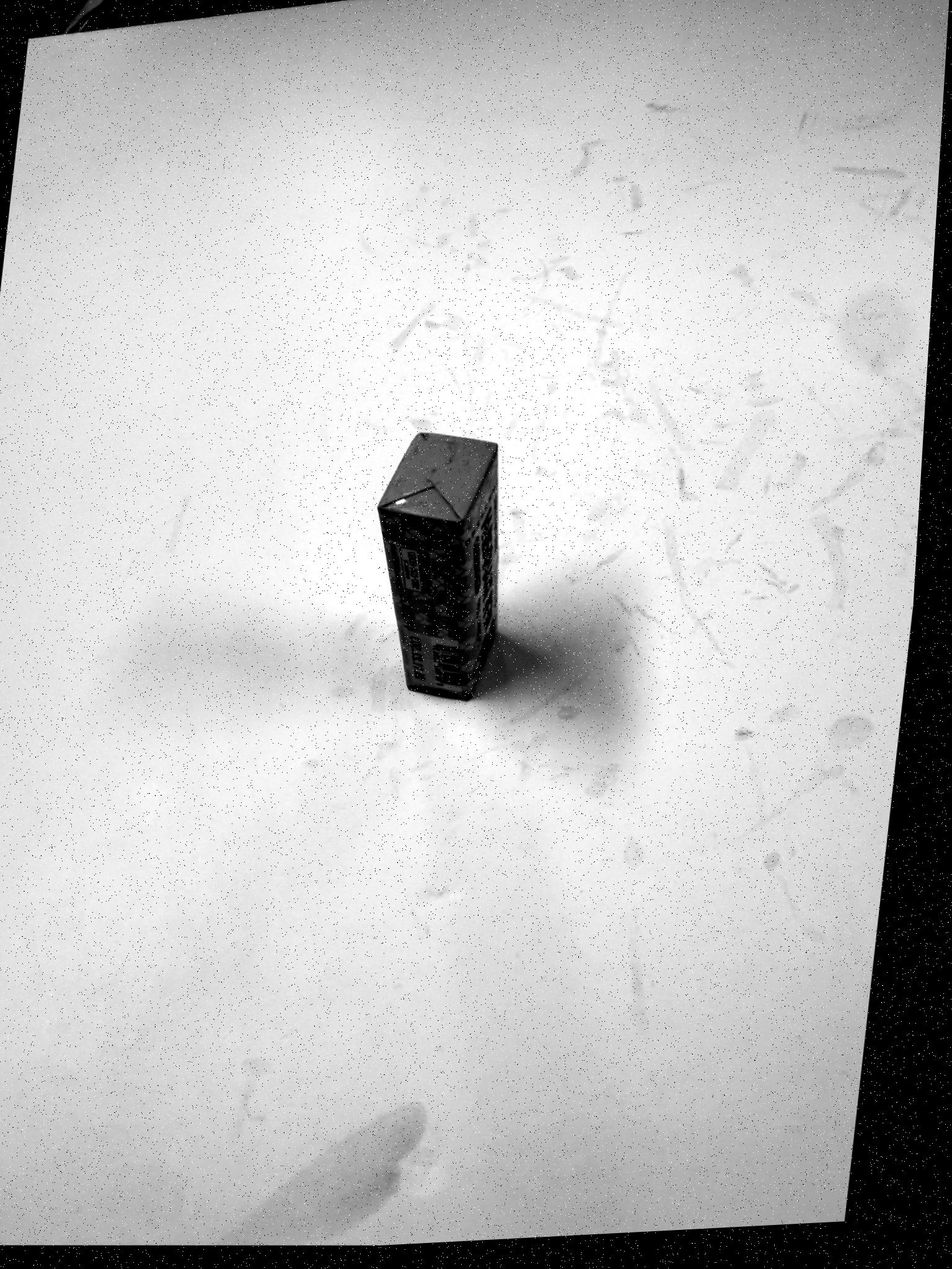gum_yellow: (378, 432, 498, 699)
